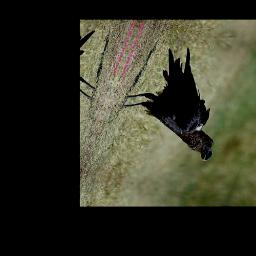Crow: (108, 38, 249, 164)
